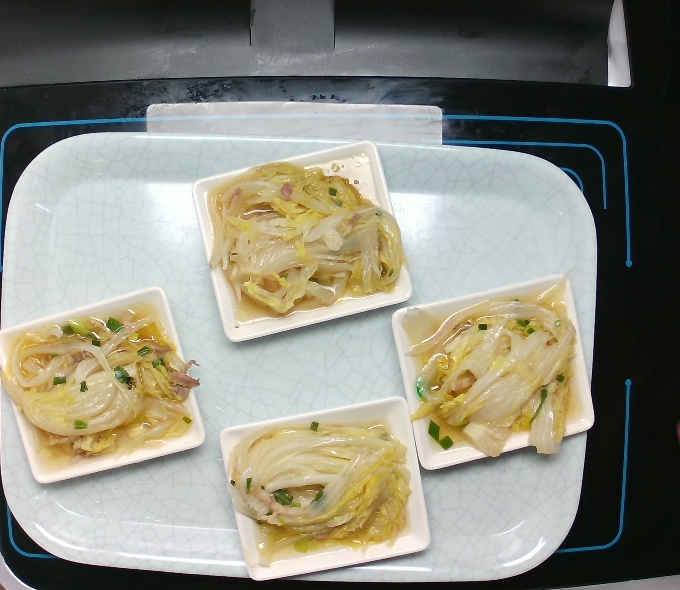wcq-DaBaiCaiRouMou: (4, 297, 198, 469), (207, 152, 404, 321), (404, 288, 579, 454), (222, 415, 415, 564)
